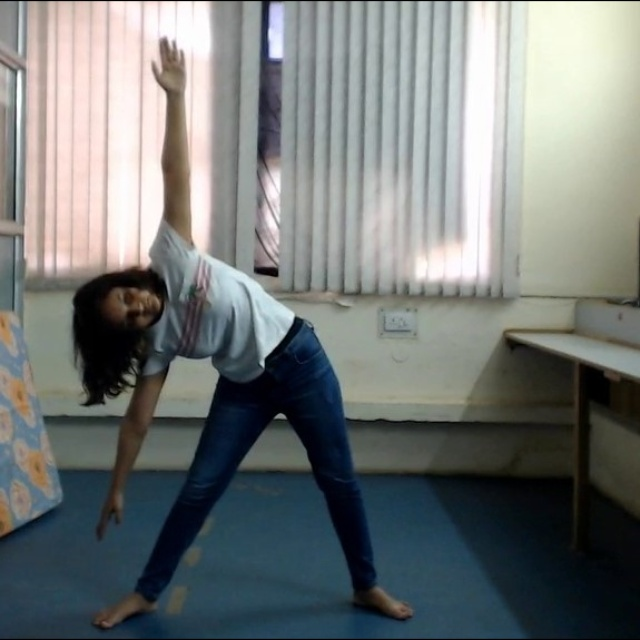Triangle_Pose: (55, 15, 429, 632)
